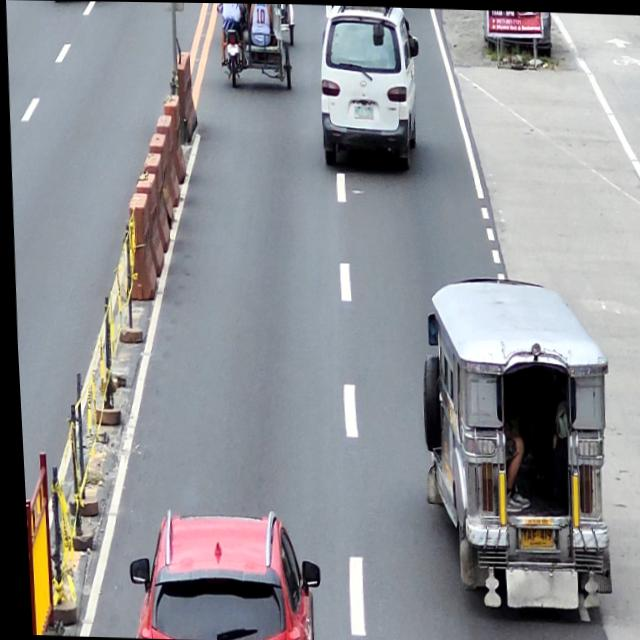Car: (119, 509, 317, 640), (314, 4, 424, 169)
Jeep: (408, 274, 615, 611)
License-Plate: (514, 526, 548, 546), (352, 104, 373, 118), (227, 41, 238, 53)
Tricycle: (219, 3, 293, 89)
